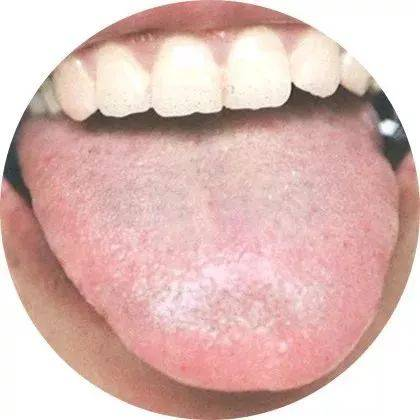baitaishe: (13, 95, 399, 391)
